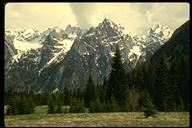cloud: (8, 3, 77, 23)
mountain: (4, 16, 189, 79)
tree: (107, 46, 190, 111), (7, 75, 105, 116)
